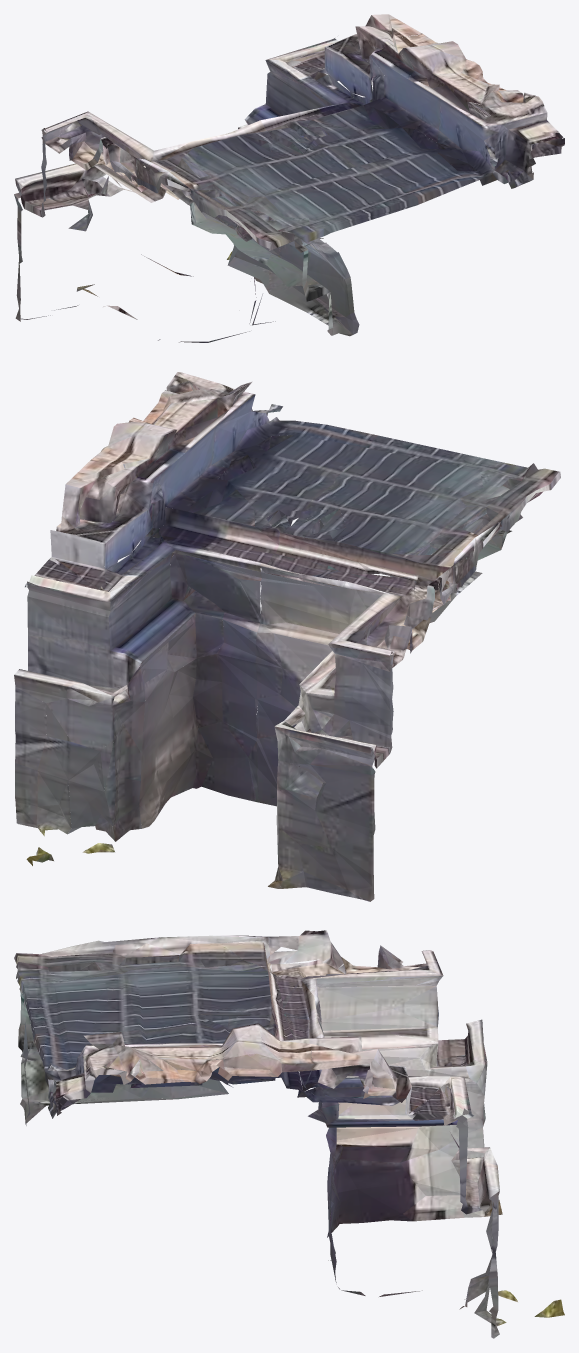
The picture shows the model from 3 angles, top to bottom: view 1: azimuth 30°, elevation 25°; view 2: azimuth 150°, elevation 25°; view 3: azimuth 270°, elevation 25°; orthographic projection. The views are drawn at different scales.
Visible parts, largest first — view 1: Mesh_0; view 2: Mesh_0; view 3: Mesh_0.
Boxes of the visible parts, x1,y1,x2,y2 form: Mesh_0: (14, 14, 564, 342); Mesh_0: (14, 372, 560, 901); Mesh_0: (14, 930, 564, 1338).
Size of the model in its own units: 33.41 by 25.12 by 40.91.
2 materials, 2 textured.
